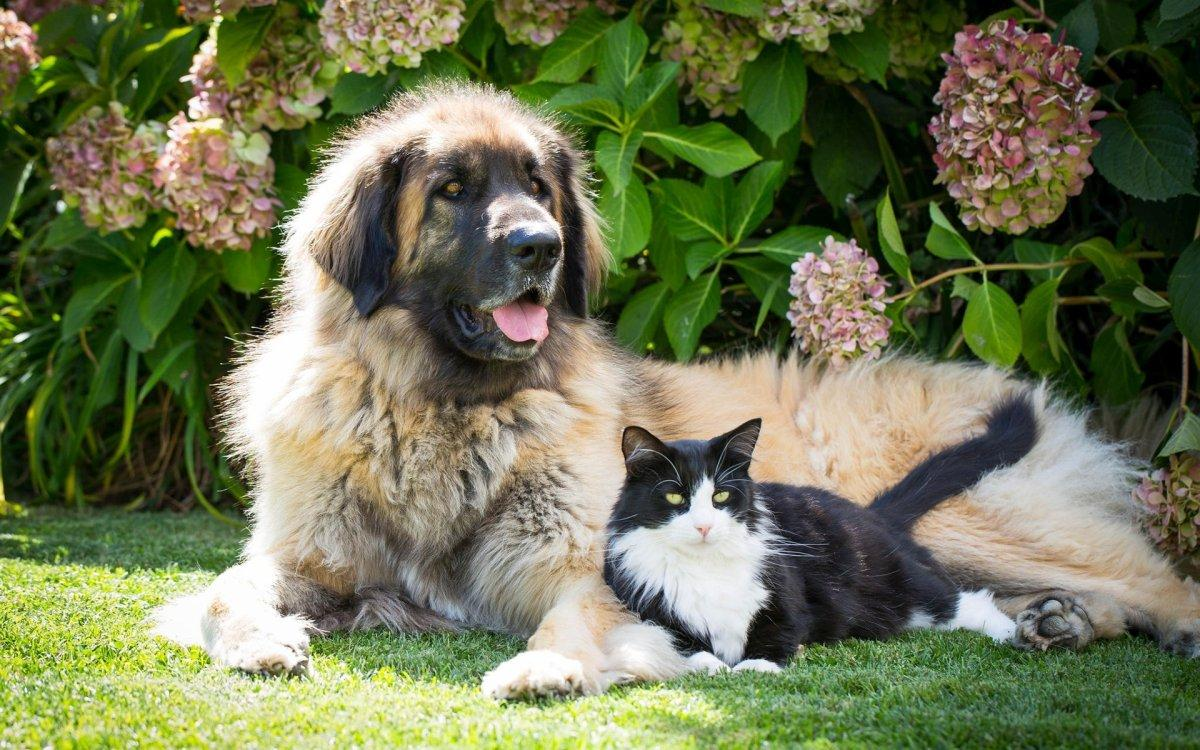animals: (184, 76, 626, 499), (604, 416, 1047, 651)
